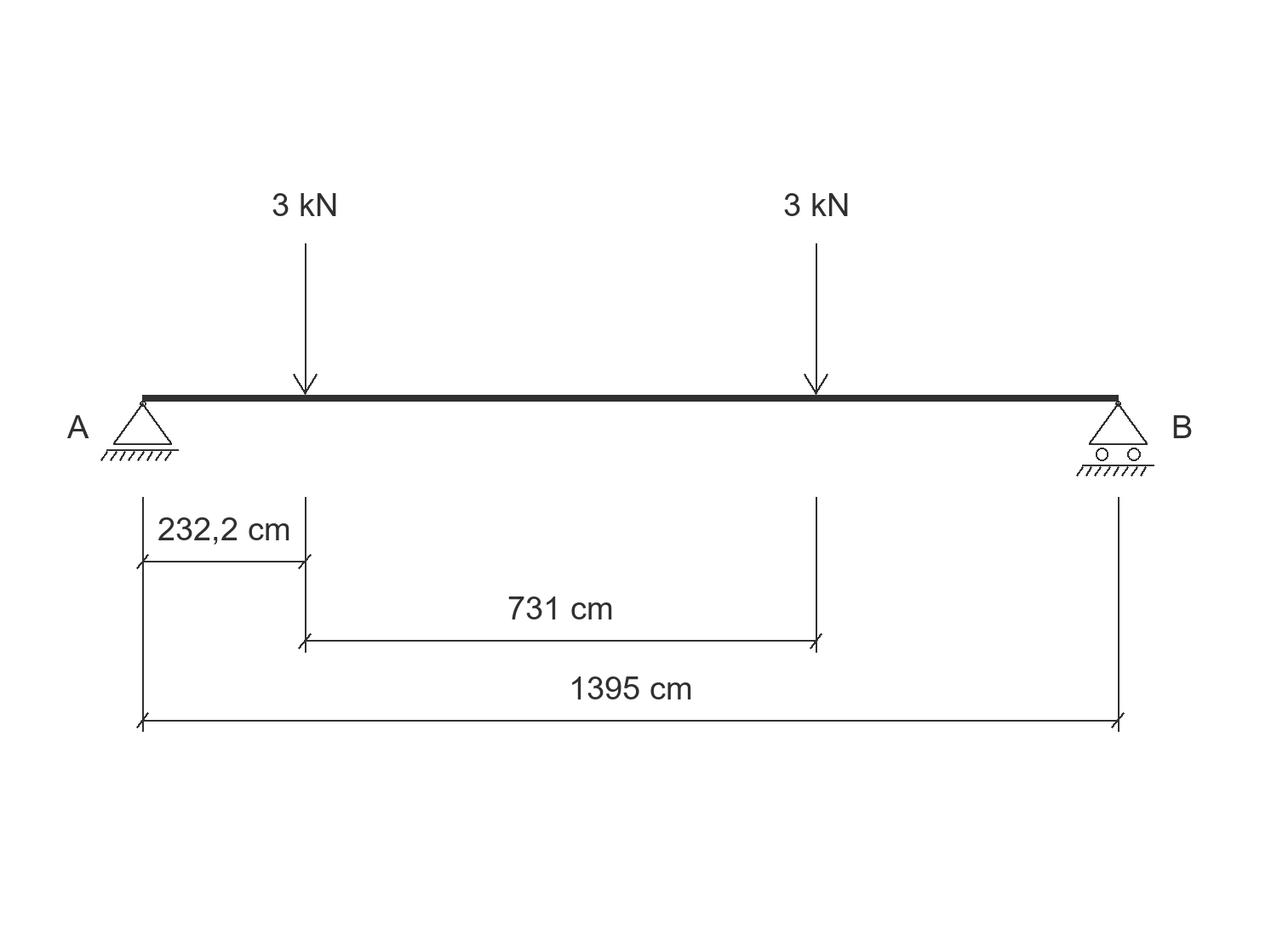pin_support: (100, 401, 179, 461)
point_load: (293, 243, 318, 395), (804, 243, 828, 395)
roller_support: (1076, 401, 1154, 477)
